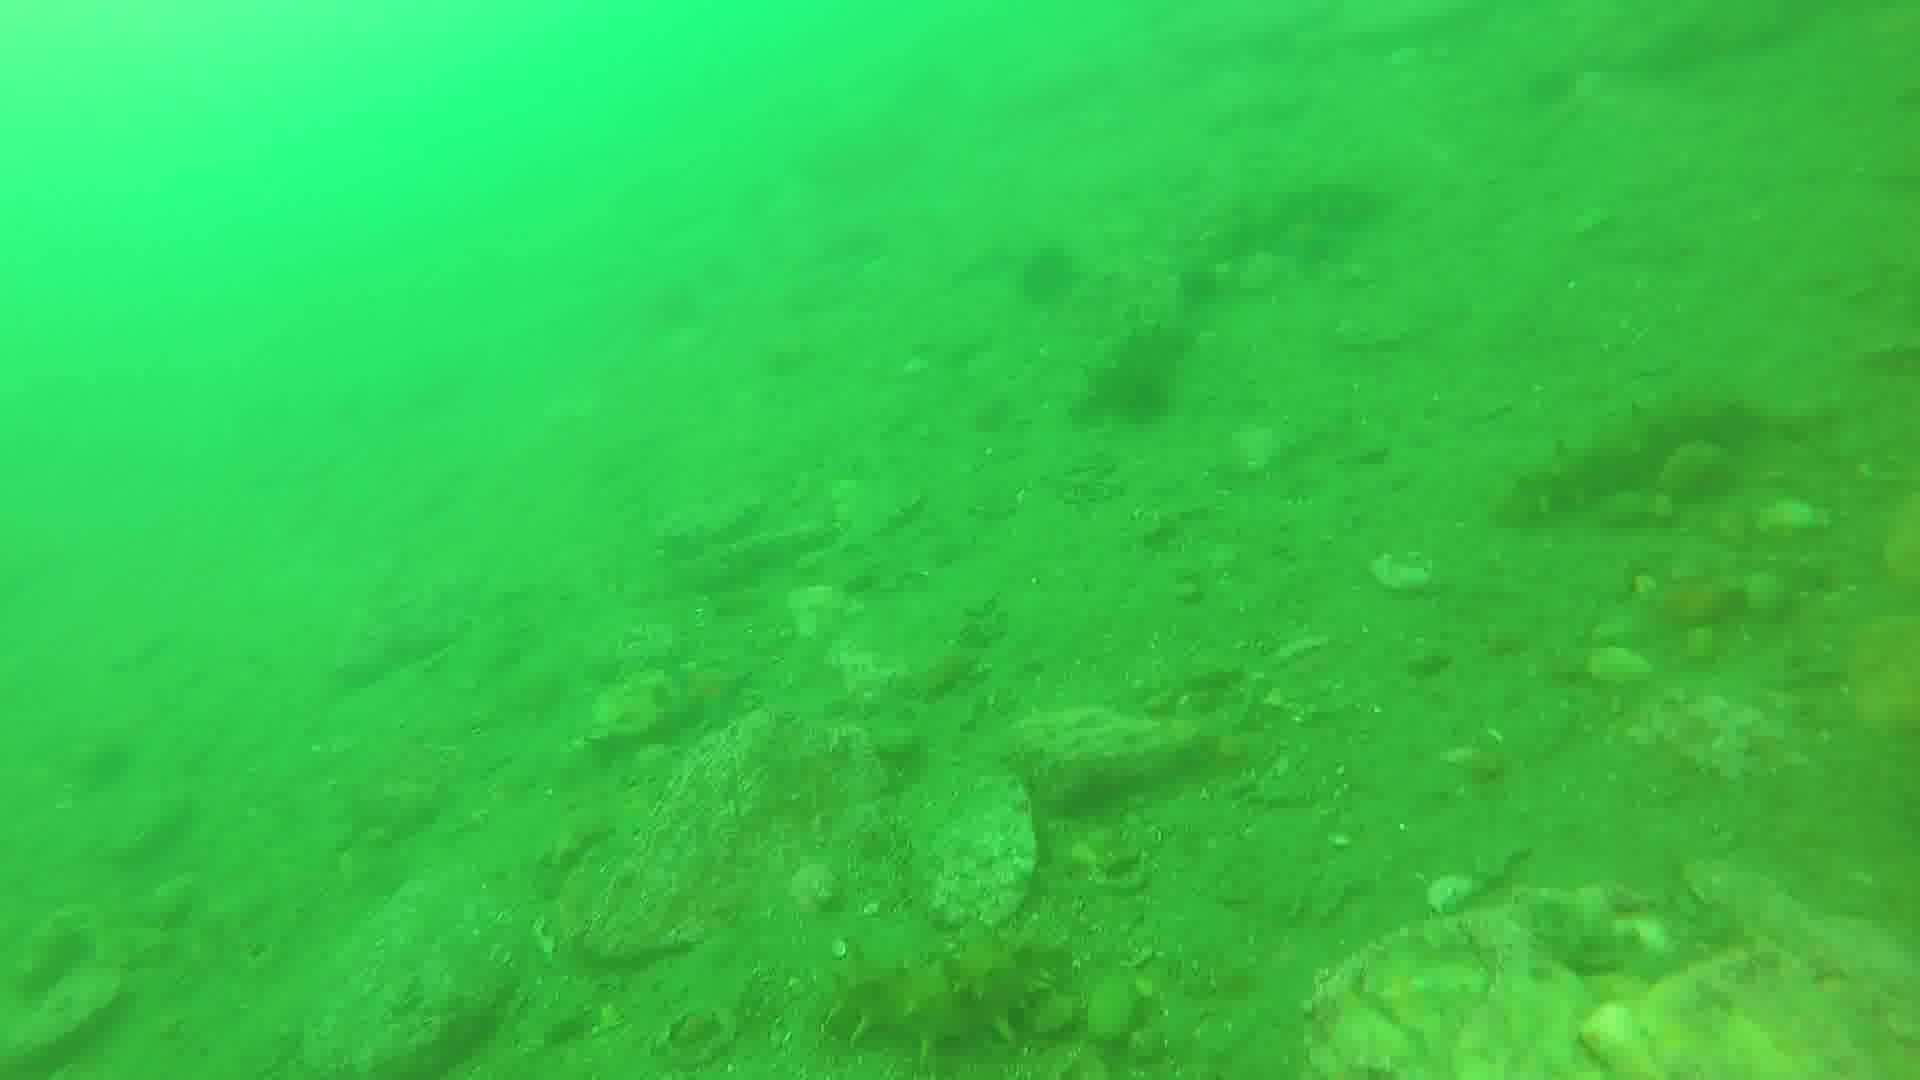holothurian: (1489, 388, 1764, 539), (812, 935, 1081, 1058)
